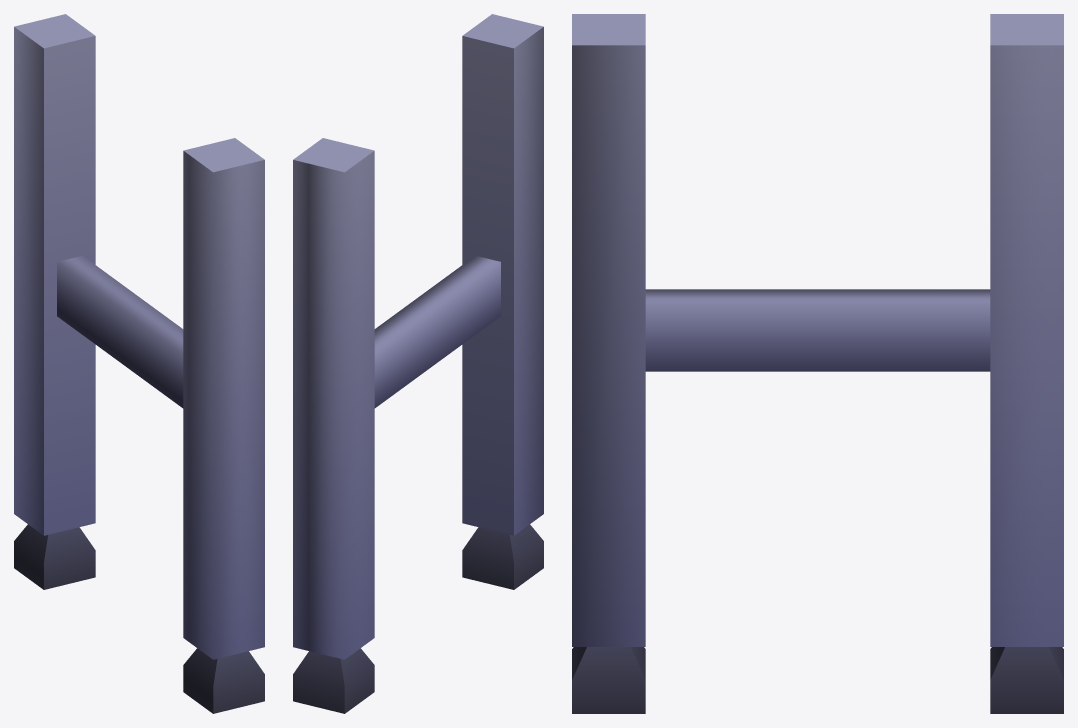
Rendered from structure-high.glb.
3 renders of one model, left to right at view 1: azimuth 30°, elevation 25°; view 2: azimuth 150°, elevation 25°; view 3: azimuth 270°, elevation 25°, orthographic. The views are drawn at different scales.
Parts seen in each view (by area): view 1: structure-high; view 2: structure-high; view 3: structure-high.
Boxes of the visible parts, <box> form: structure-high: <box>14,14,264,713</box>; structure-high: <box>293,14,543,713</box>; structure-high: <box>572,14,1063,713</box>.
Bounding box in the file's own units: 0.15 × 1.5 × 1.
